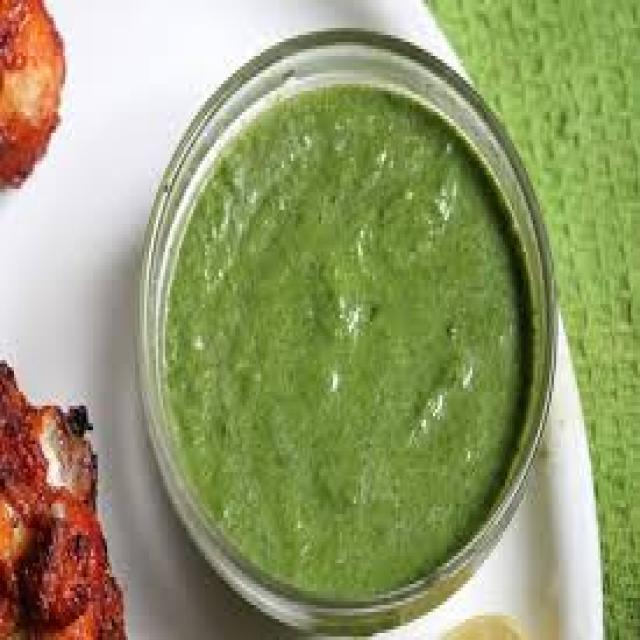GREEN CHUTNEY: (142, 45, 543, 618)
